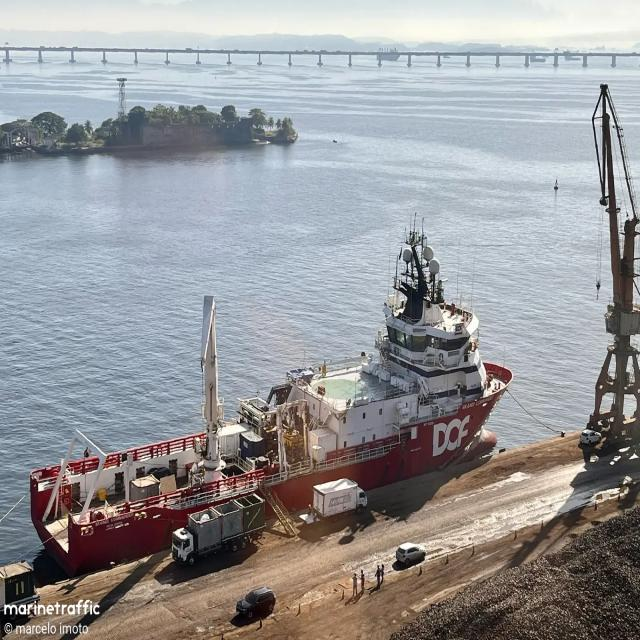Offshore: (31, 230, 512, 576)
